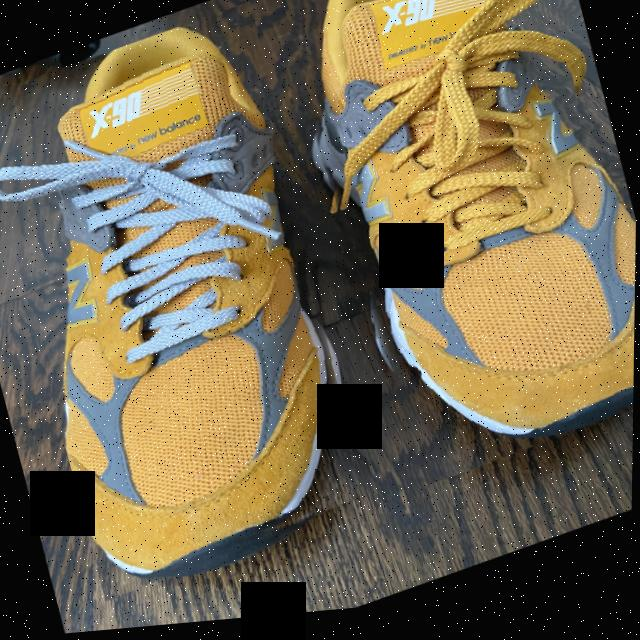shoe: (0, 0, 389, 612), (265, 0, 640, 511)
